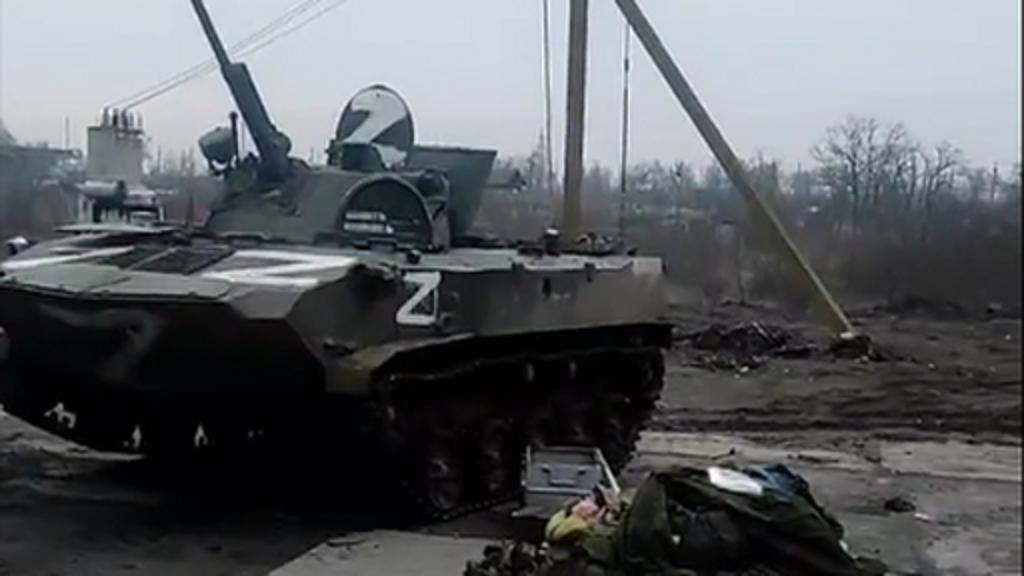APC-IFV: (0, 0, 674, 520)
